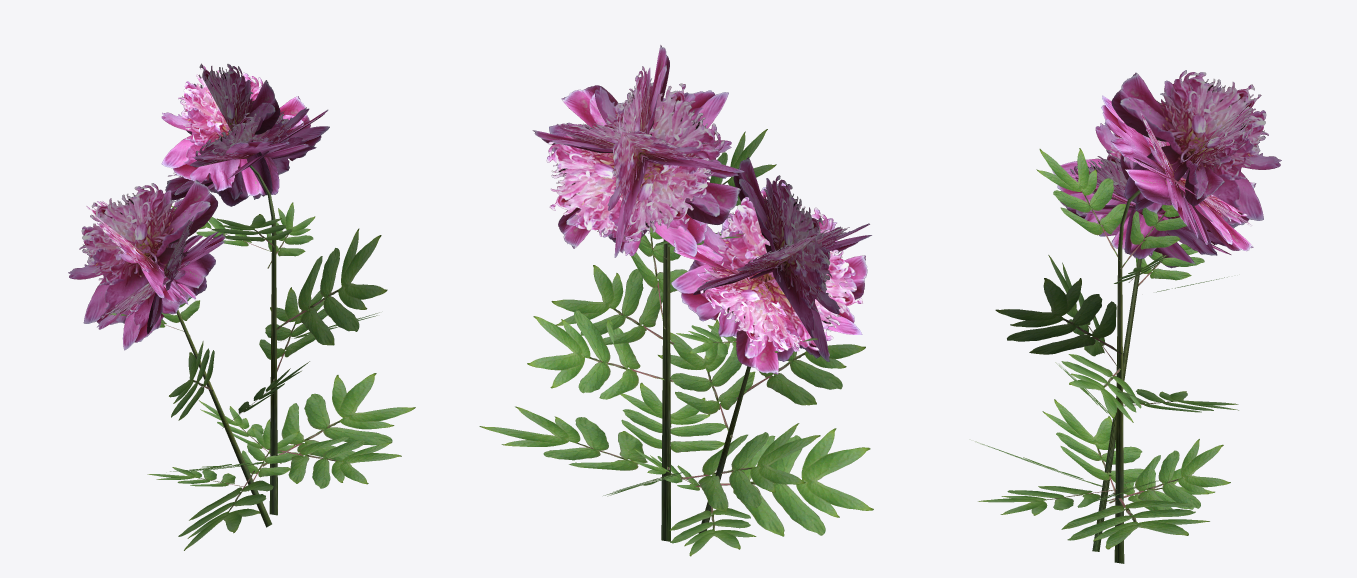
File: tree_m.FBX
3 renders of one model, left to right at view 1: azimuth 30°, elevation 25°; view 2: azimuth 150°, elevation 25°; view 3: azimuth 270°, elevation 25°, orthographic. The views are drawn at different scales.
Visible parts, largest first — view 1: tree_m; view 2: tree_m; view 3: tree_m.
Part boxes in pixels (x1,y1,x2,y2): tree_m: (68, 63, 415, 550); tree_m: (479, 45, 873, 556); tree_m: (975, 70, 1281, 563).
Size of the model in its own units: 1.19 by 1.46 by 0.9513.
Materials: 1 (1 with a texture image).
